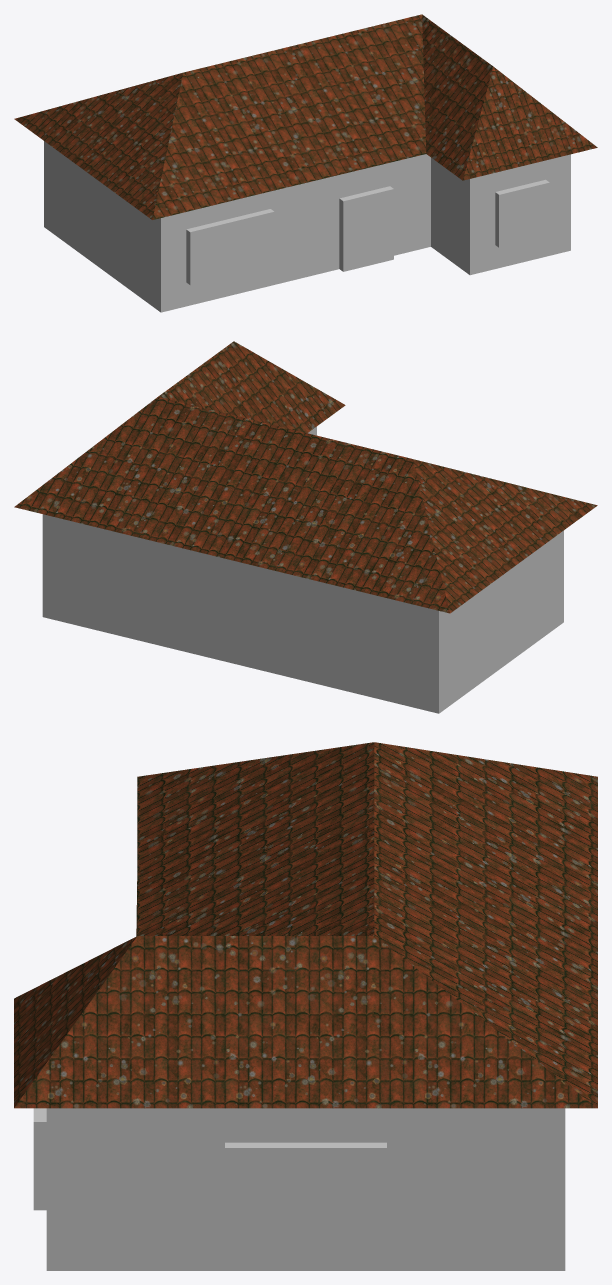
File: Poor_House1.fbx
3 renders of one model, top to bottom at view 1: azimuth 30°, elevation 25°; view 2: azimuth 150°, elevation 25°; view 3: azimuth 270°, elevation 25°, orthographic. The views are drawn at different scales.
Visible parts, largest first — view 1: Roof, House, Window, Door, Window2; view 2: Roof, House; view 3: Roof, House, Window.001, Window2.
Boxes of the visible parts, x1,y1,x2,y2 form: Roof: (14,14,597,219); House: (44,141,570,312); Window: (186,209,274,285); Door: (339,186,393,271); Window2: (495,179,549,247); Roof: (14,341,597,613); House: (42,426,563,713); Roof: (14,742,597,1108); House: (46,1108,565,1270); Window.001: (225,1142,386,1236); Window2: (33,1108,46,1210).
Size of the model in its own units: 1210 by 500 by 901.
